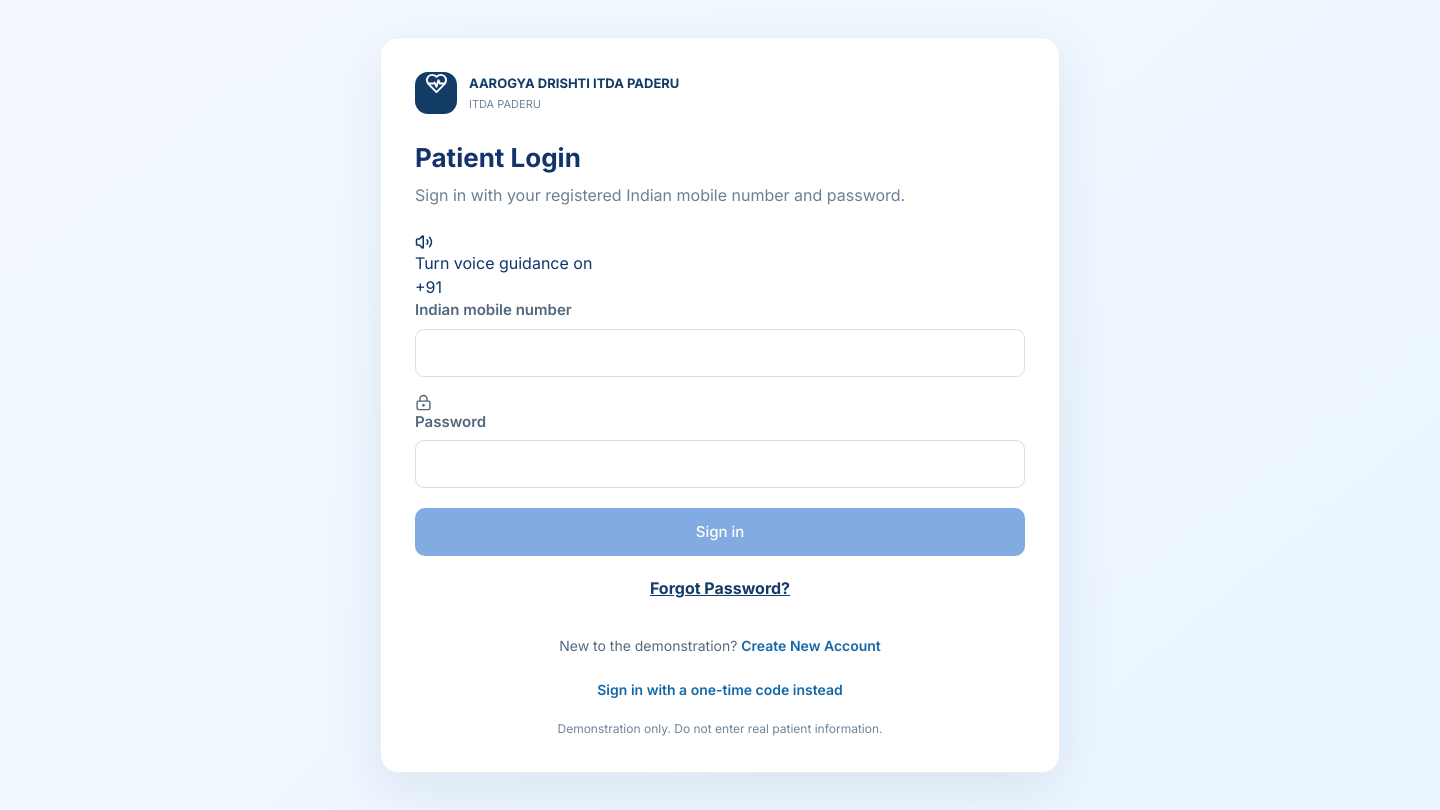
Test: patient password login › signs in with mobile and password and opens the patient dashboard
Type "9876543210" into the field labelled "Indian mobile number" at (720, 352), box [415,328,1025,376]
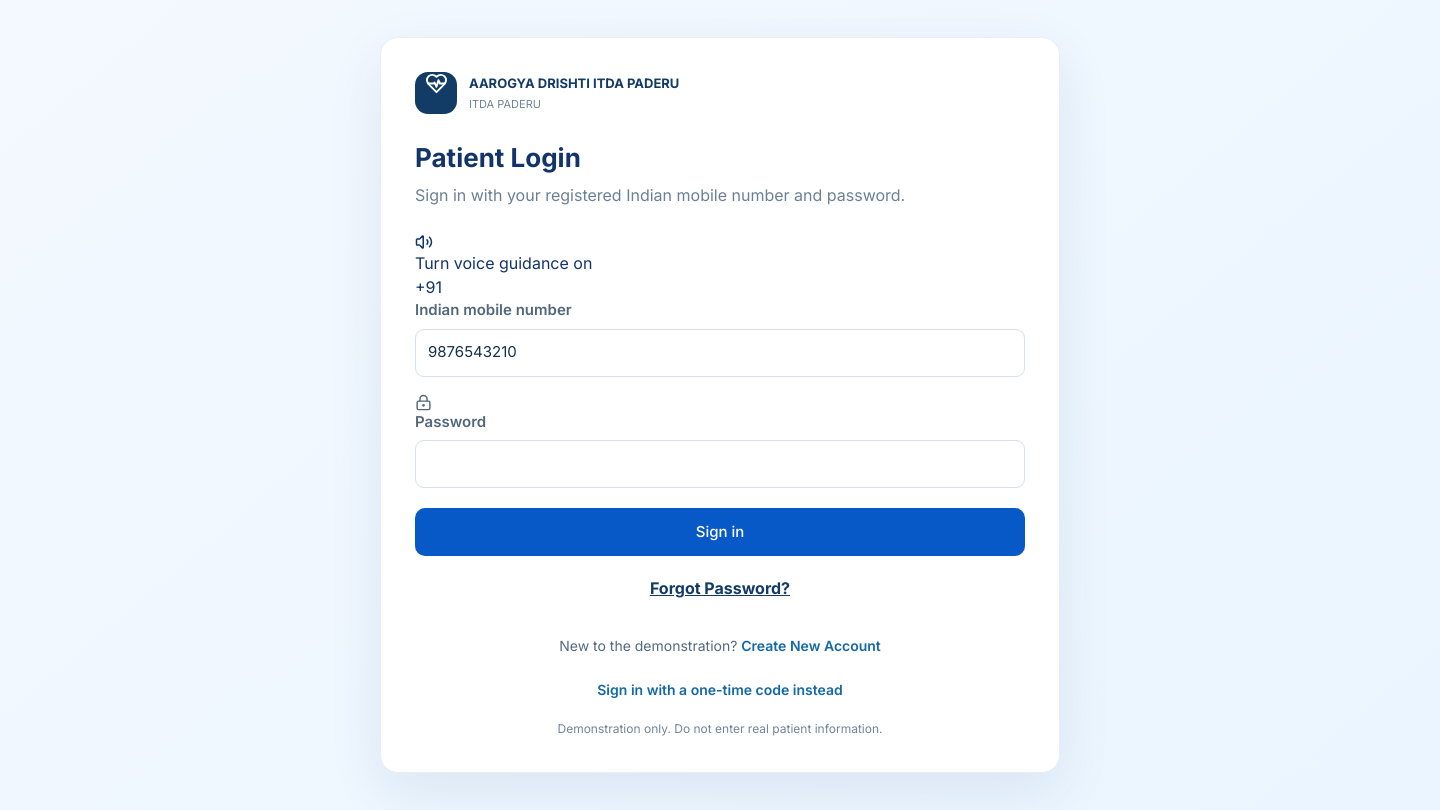
Type "StrongPass1" into the password field labelled "Password" at (720, 464), box [415,440,1025,488]
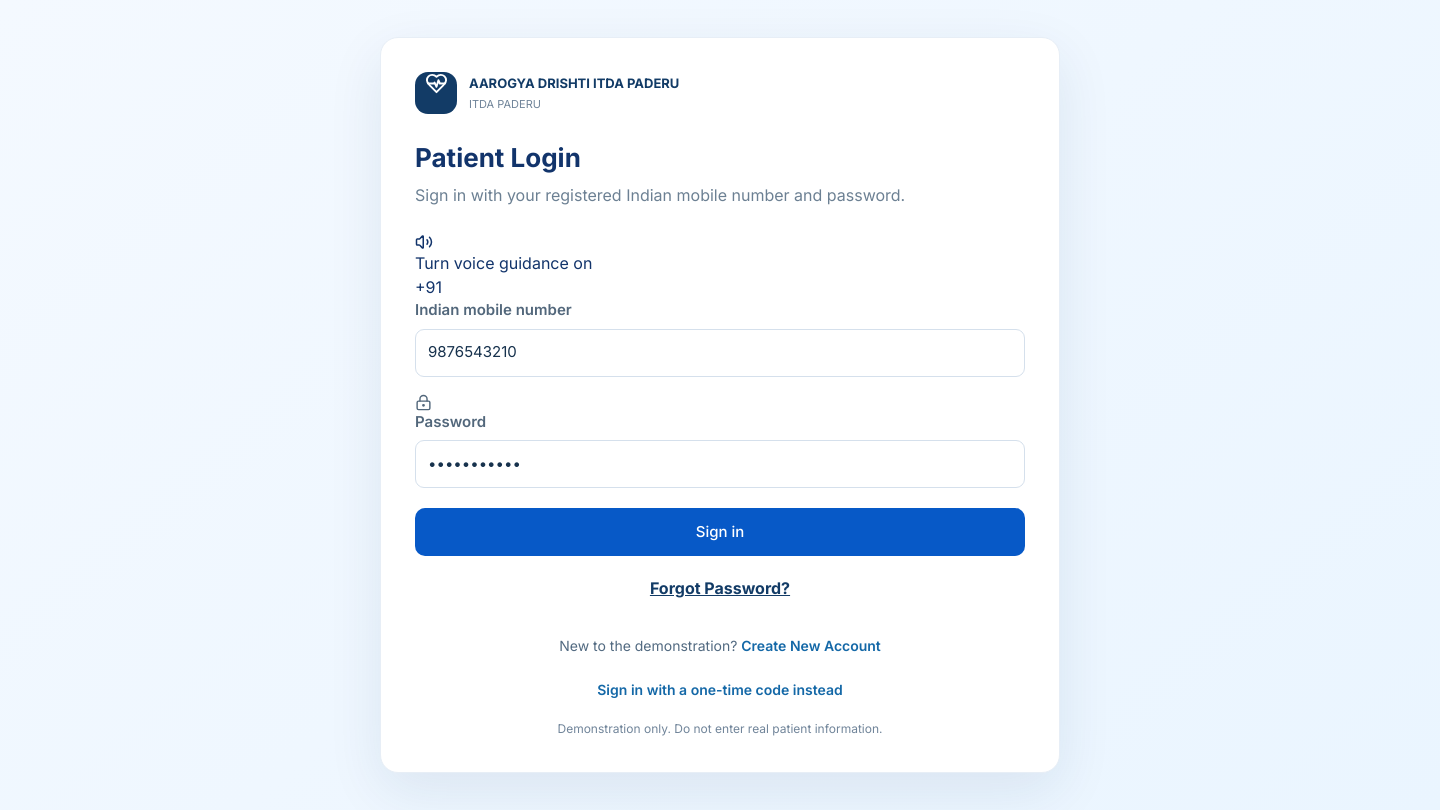
Click the button "Sign in" at (720, 532), box [415,508,1025,556]
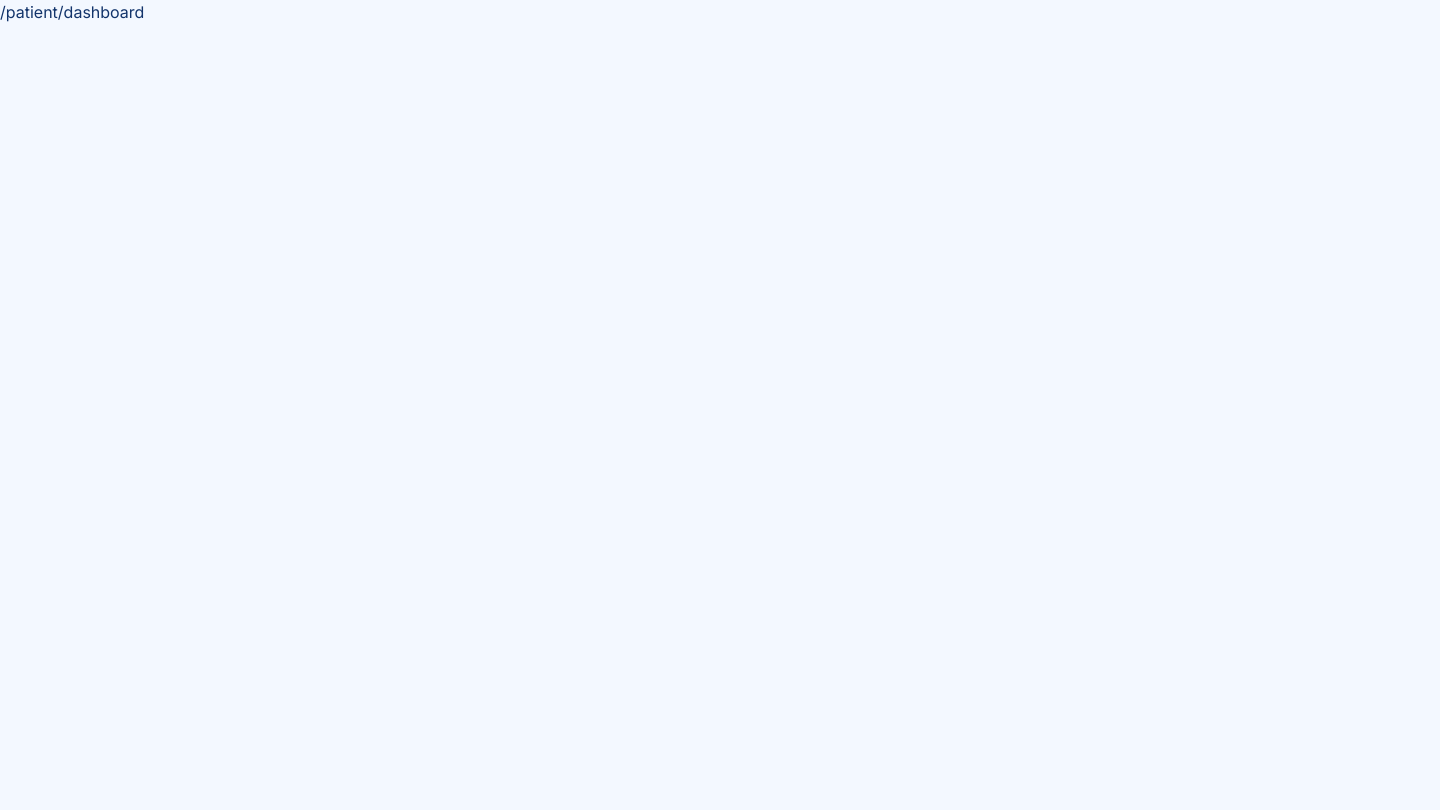
Result: the text with test id "current-path" reads "/patient/dashboard" at [0,2,144,22]
